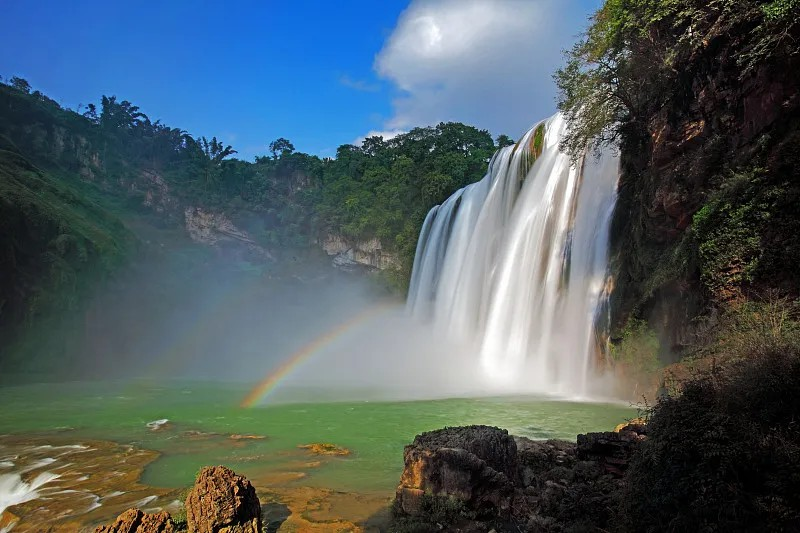Huangguoshu: (410, 110, 620, 395)
